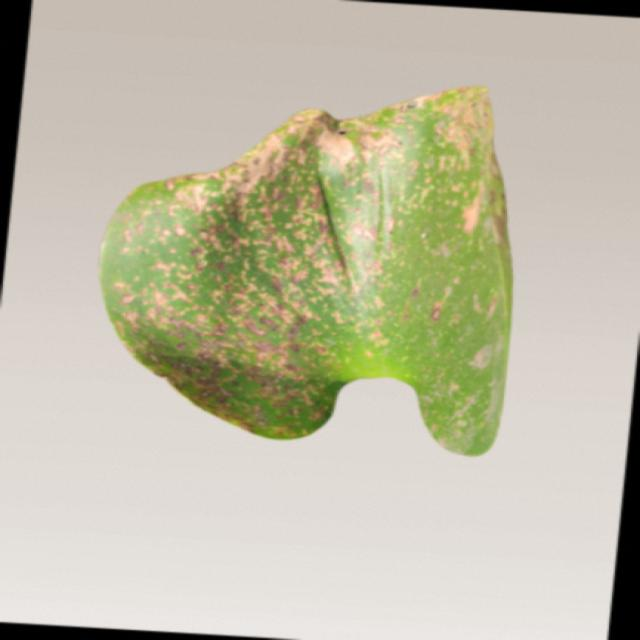daun berpenyakit bercak: (100, 88, 511, 454)
